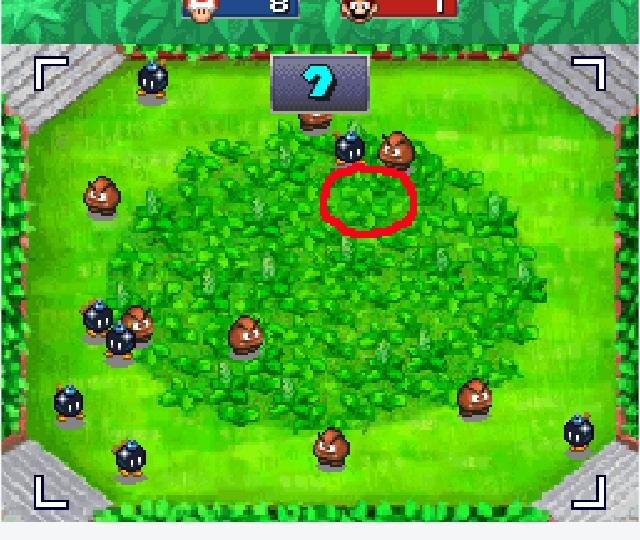bomb: (558, 405, 605, 461), (96, 320, 144, 374), (127, 57, 173, 111), (105, 435, 152, 487), (76, 295, 121, 343), (328, 128, 373, 175), (48, 381, 89, 429)
goomba: (374, 125, 422, 181), (451, 375, 499, 426), (220, 312, 268, 361), (78, 174, 125, 224), (308, 425, 355, 473), (113, 302, 159, 348), (292, 113, 336, 138)
